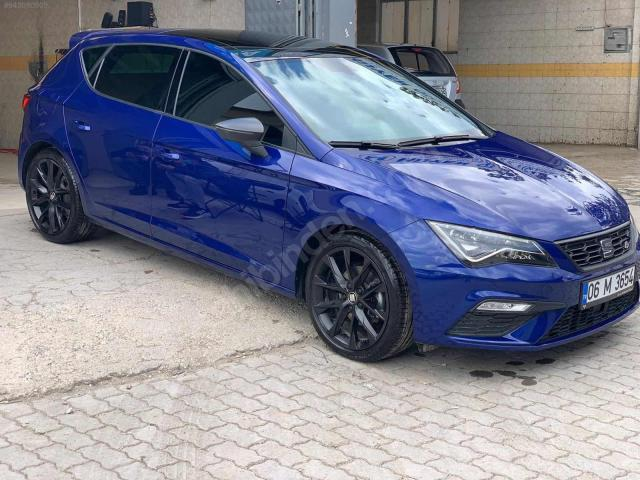plaka: (582, 267, 634, 308)
